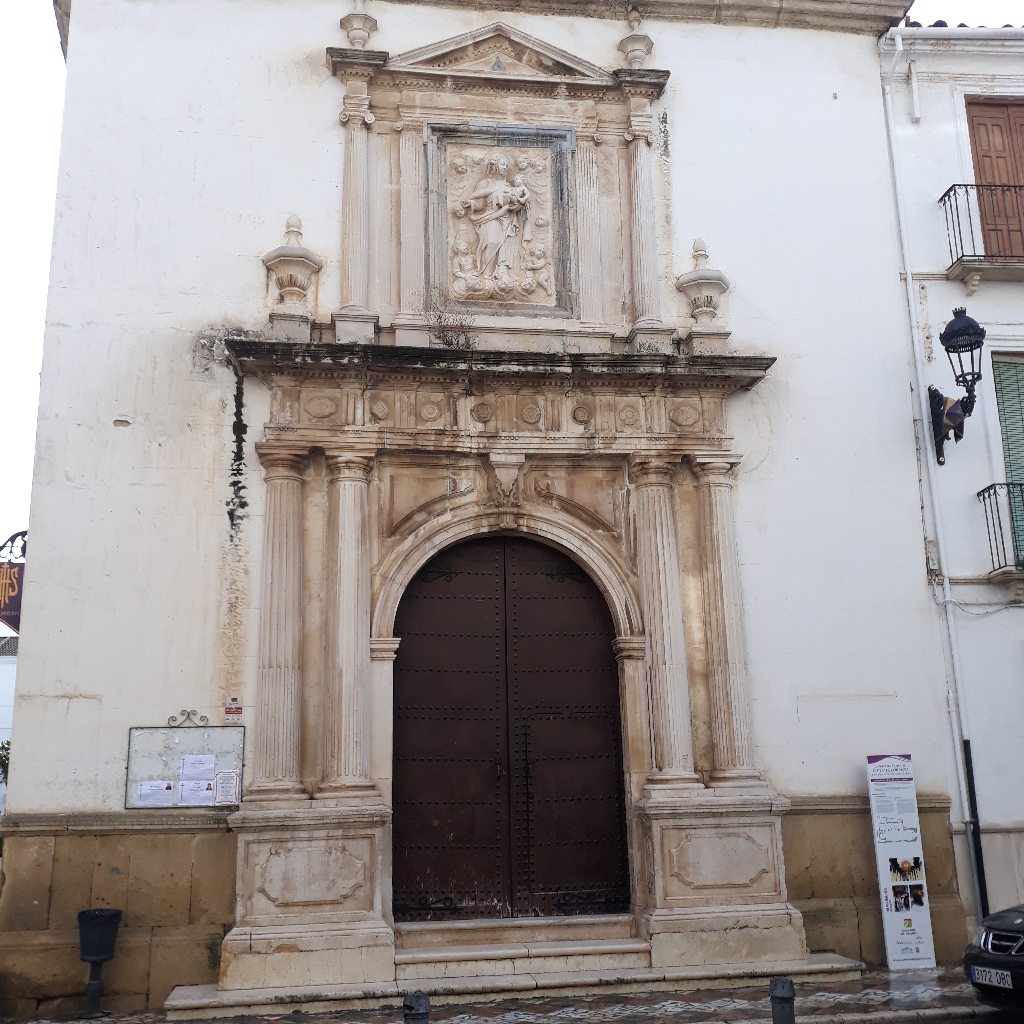arco-medio-punto: (384, 508, 637, 675)
fronton: (365, 16, 621, 93)
